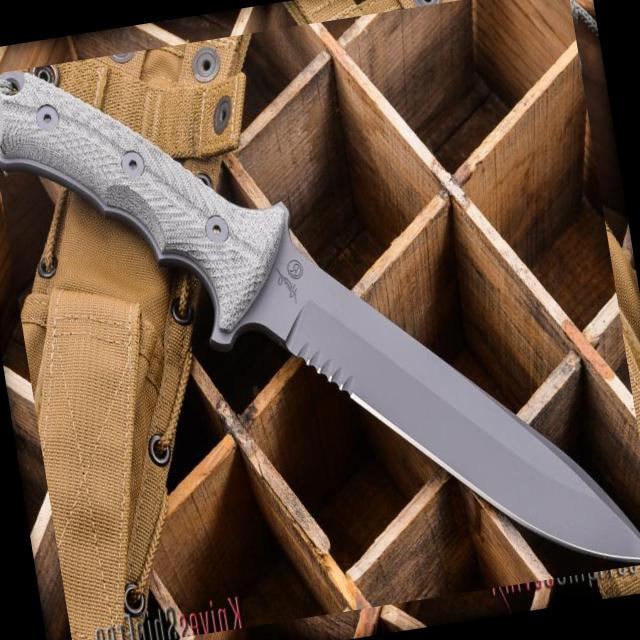Knife: (0, 71, 640, 562)
